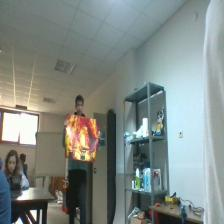fire-poster: (65, 114, 100, 162)
